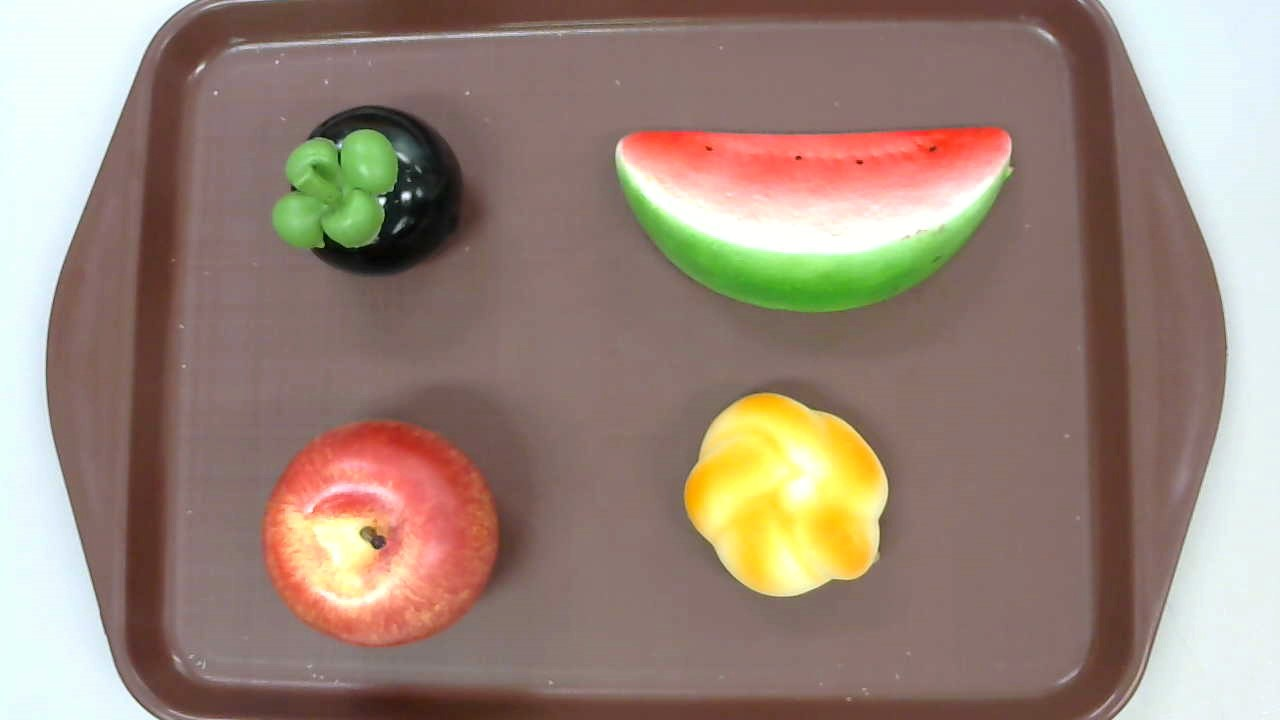mangosteen: (271, 103, 463, 278)
red apple: (260, 418, 500, 647)
twist bread: (682, 391, 889, 597)
watermelon: (614, 124, 1014, 314)
